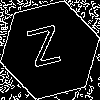Z: (25, 25, 66, 77)
